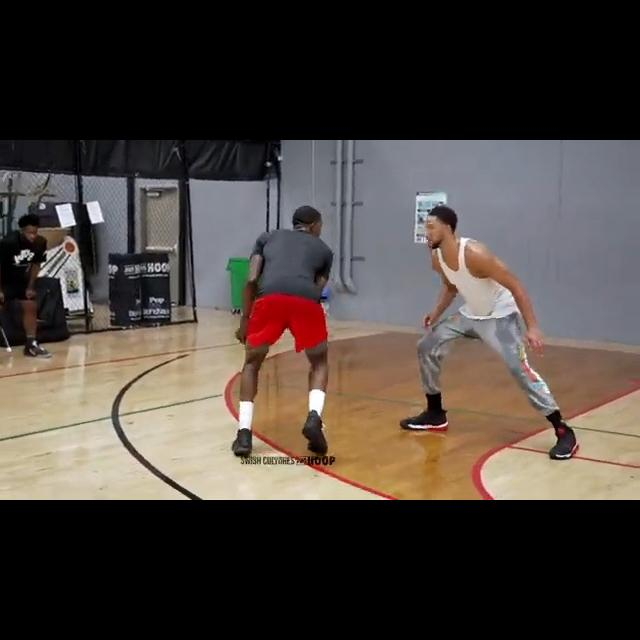person: (399, 206, 585, 465), (229, 204, 345, 459), (0, 214, 59, 362)
